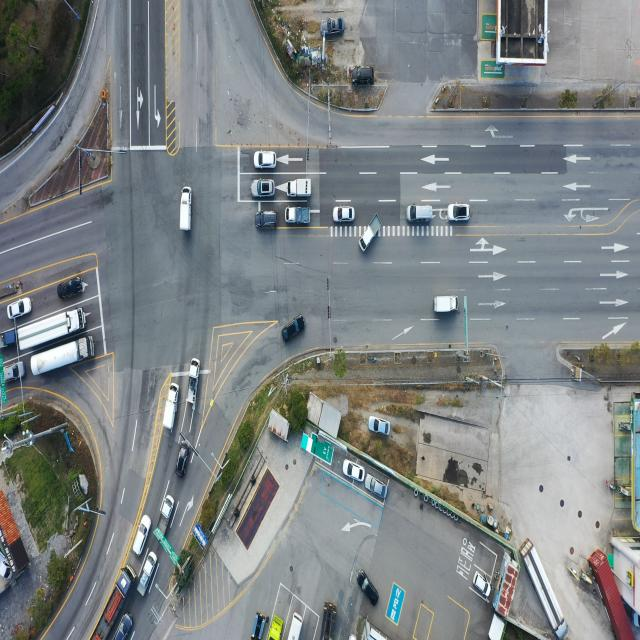car: (132, 512, 152, 556), (358, 570, 378, 606), (58, 277, 86, 300), (282, 318, 305, 346), (176, 440, 191, 479), (366, 476, 388, 501), (112, 614, 133, 640), (344, 459, 365, 483), (472, 571, 490, 599), (408, 204, 433, 224), (3, 360, 25, 382), (8, 299, 31, 320), (351, 65, 375, 85), (320, 18, 345, 37), (368, 416, 390, 437), (251, 179, 275, 198), (448, 204, 471, 223), (255, 210, 278, 229), (254, 150, 276, 169), (334, 206, 356, 224)
medium_truck: (523, 538, 570, 638), (13, 310, 85, 354), (29, 334, 96, 379), (96, 562, 136, 637), (318, 601, 336, 640)
small_bus: (282, 613, 302, 640)
small_truck: (138, 552, 158, 598), (359, 217, 381, 255), (157, 495, 176, 537), (164, 383, 180, 432), (186, 359, 198, 409), (183, 187, 195, 233), (287, 178, 313, 198), (434, 296, 459, 316), (286, 206, 311, 226), (250, 610, 266, 640), (267, 613, 282, 640), (0, 330, 17, 352)
